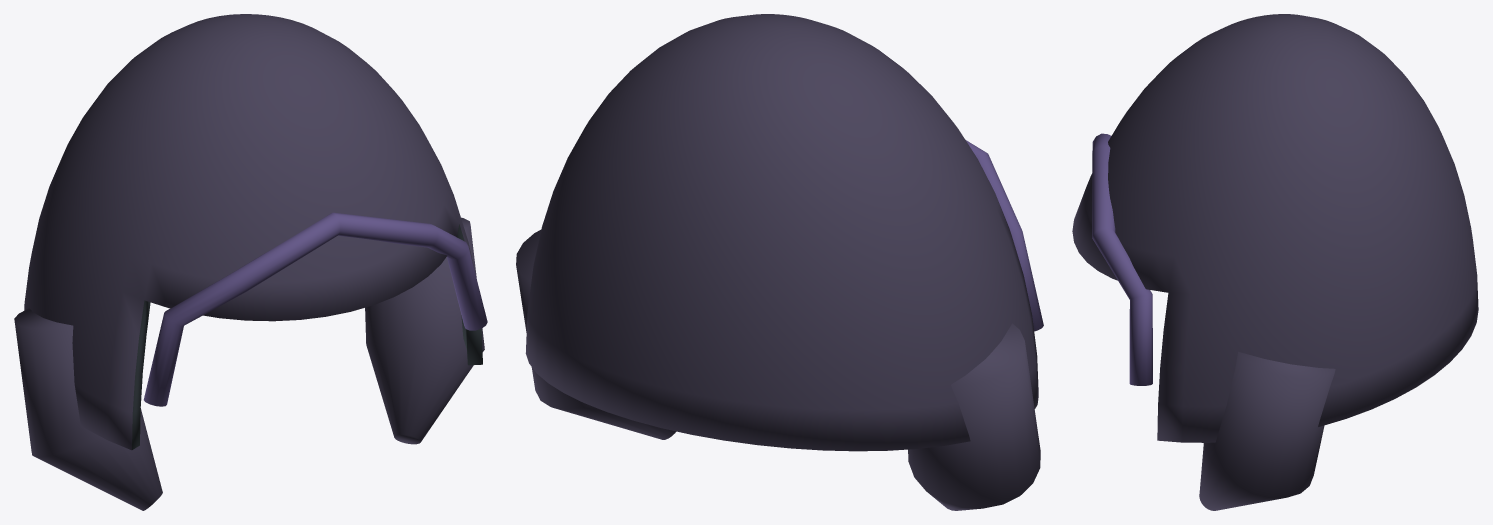
Rendered from shadow-hood.glb.
3 views of the same model, side by side, from view 1: azimuth 30°, elevation 25°; view 2: azimuth 150°, elevation 25°; view 3: azimuth 270°, elevation 25° (orthographic). The views are drawn at different scales.
Visible parts, largest first — view 1: Deep pointed shadow hood, Long cloth lappet.001, Long cloth lappet, Face opening piping; view 2: Deep pointed shadow hood, Long cloth lappet, Long cloth lappet.001, Face opening piping; view 3: Deep pointed shadow hood, Long cloth lappet.001, Face opening piping.
Boxes of the visible parts, x1,y1,x2,y2 form: Deep pointed shadow hood: [24, 14, 482, 450]; Long cloth lappet.001: [365, 217, 484, 444]; Long cloth lappet: [14, 308, 162, 510]; Face opening piping: [143, 212, 487, 406]; Deep pointed shadow hood: [525, 14, 1038, 451]; Long cloth lappet: [908, 323, 1040, 510]; Long cloth lappet.001: [516, 230, 676, 439]; Face opening piping: [965, 140, 1043, 331]; Deep pointed shadow hood: [1072, 14, 1478, 442]; Long cloth lappet.001: [1199, 351, 1335, 510]; Face opening piping: [1092, 133, 1152, 385].
Size of the model in its own units: 0.9398 by 0.8605 by 0.7587.
